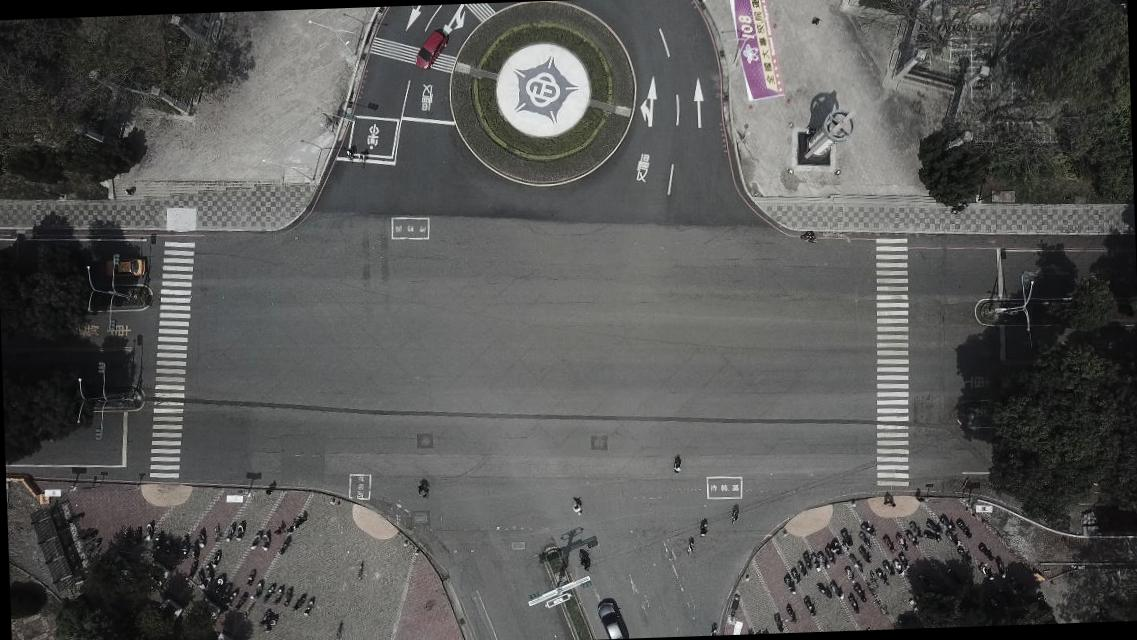vehicle: (594, 594, 630, 639), (413, 30, 450, 71), (100, 256, 147, 278)
